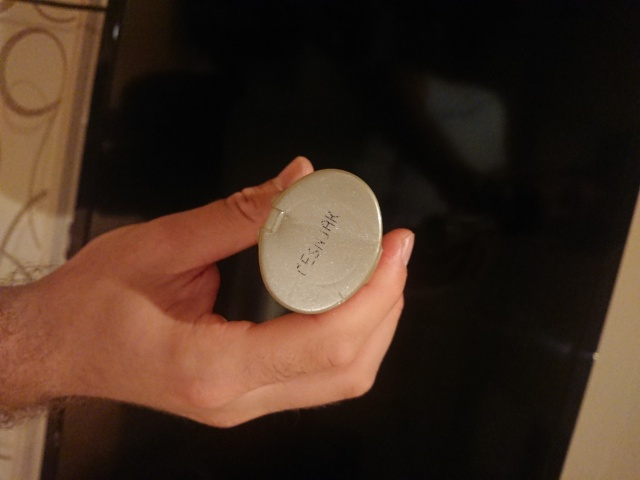Kotanyi Garlic Granules 70g: (256, 165, 385, 317)
